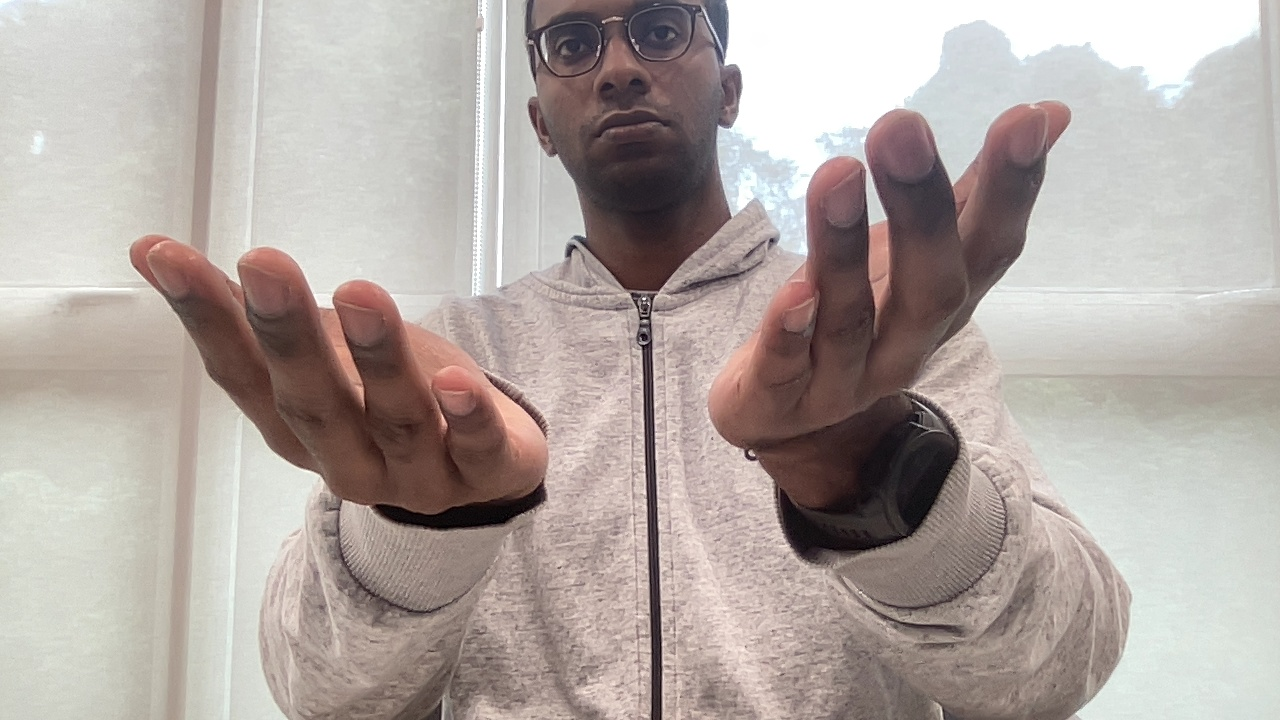give: (115, 94, 1084, 527)
